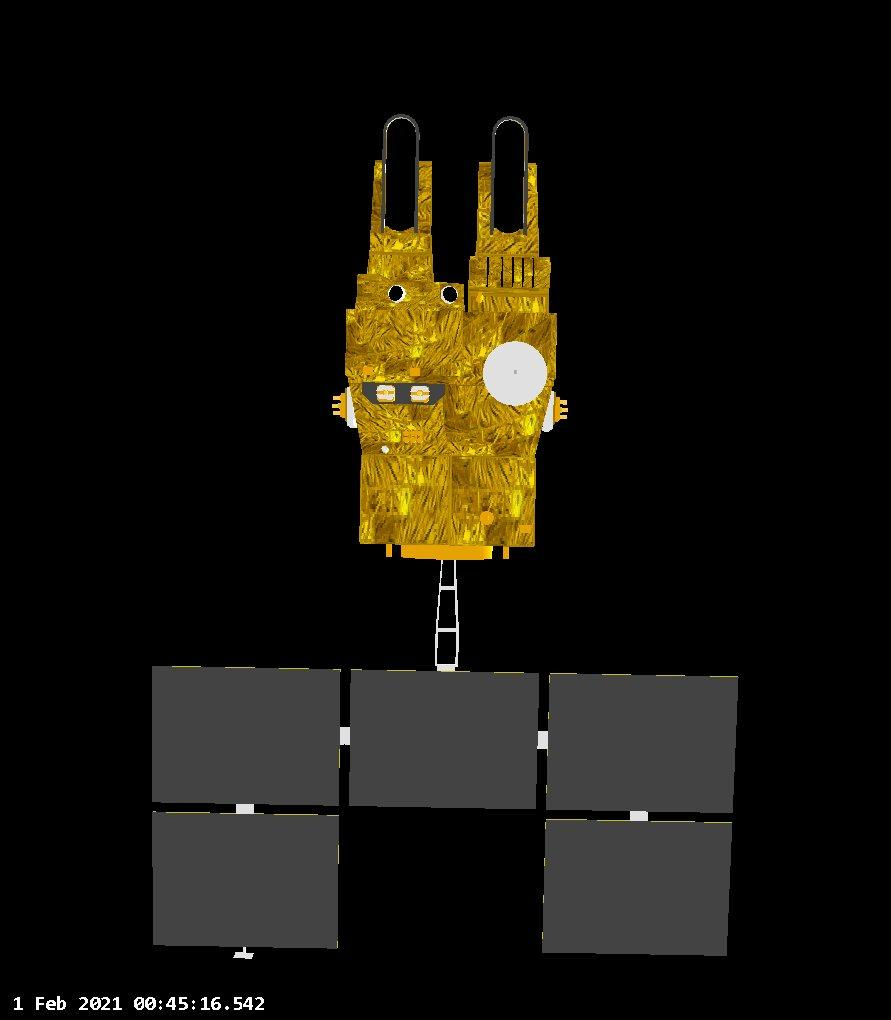antenna: (482, 340, 548, 404), (409, 381, 435, 403), (376, 383, 400, 404)
body: (336, 270, 558, 560)
solar: (146, 660, 739, 964)
